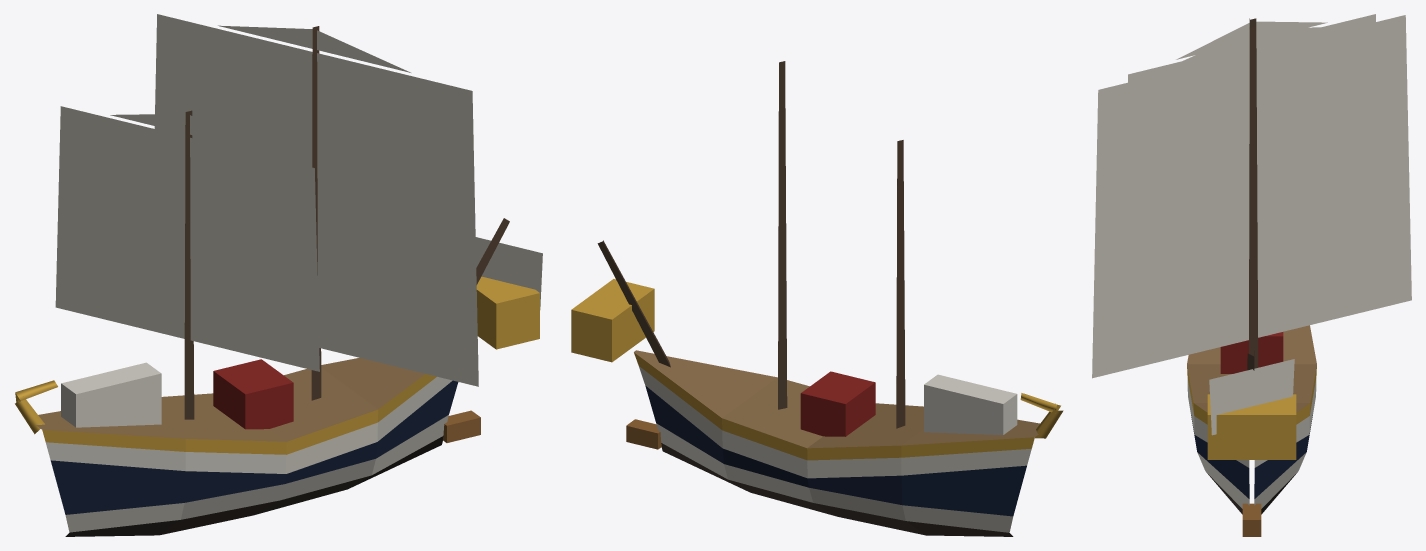
File: titan_usd1_lod.glb
The picture shows the model from 3 angles, left to right: view 1: azimuth 30°, elevation 25°; view 2: azimuth 150°, elevation 25°; view 3: azimuth 270°, elevation 25°; orthographic projection. The views are drawn at different scales.
Visible parts, largest first — view 1: lod; view 2: lod; view 3: lod.
Part boxes in pixels (<box>): lod: <box>15,14,542,536</box>; lod: <box>571,61,1063,536</box>; lod: <box>1092,14,1411,536</box>.
Size of the model in its own units: 25.04 by 22.36 by 14.01.
